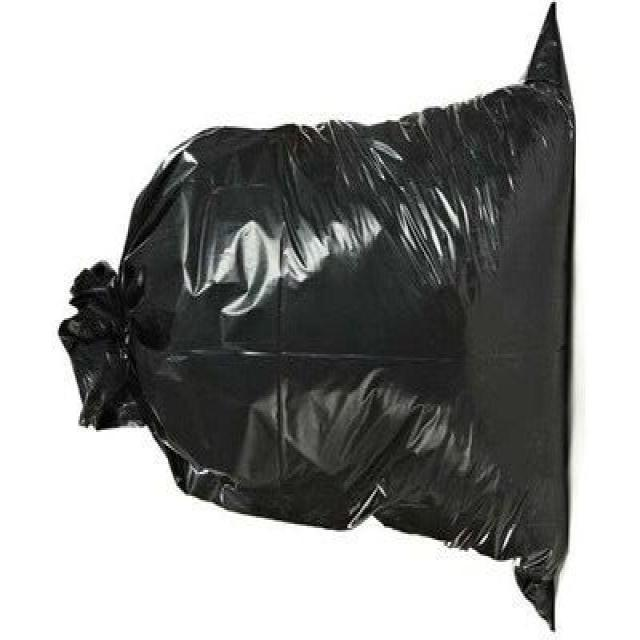Vinyl: (56, 0, 578, 638)
